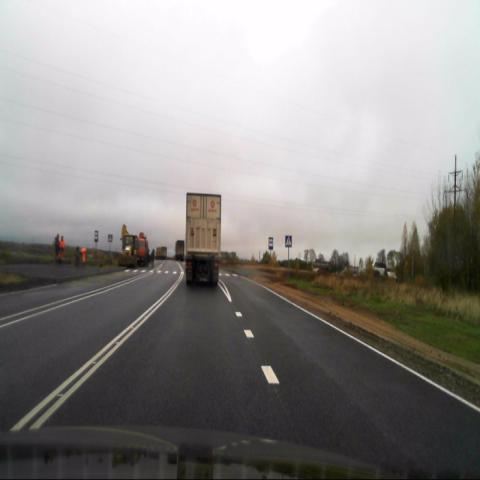5_19_1: (285, 235, 292, 247)
